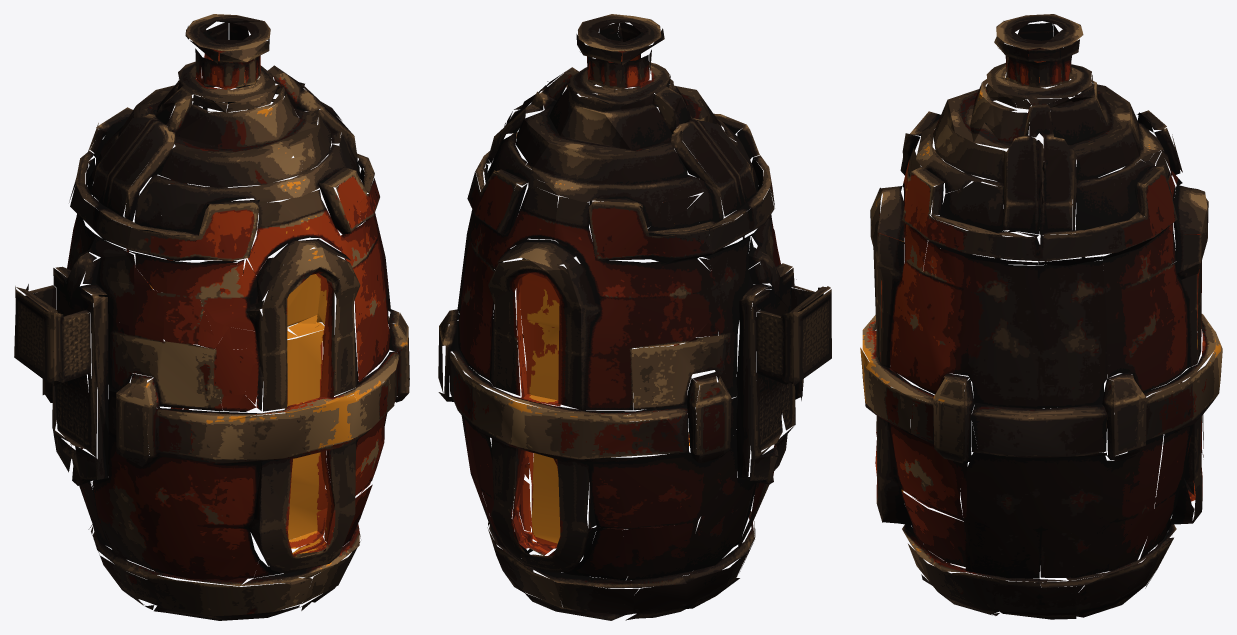
Rendered from co_crucible.glb.
The picture shows the model from 3 angles, left to right: view 1: azimuth 30°, elevation 25°; view 2: azimuth 150°, elevation 25°; view 3: azimuth 270°, elevation 25°; orthographic projection.
Visible parts, largest first — view 1: co_crucible; view 2: co_crucible; view 3: co_crucible.
Boxes of the visible parts, x1,y1,x2,y2 form: co_crucible: (14, 14, 409, 620); co_crucible: (438, 14, 831, 620); co_crucible: (860, 14, 1222, 619).
Bounding box in the file's own units: 0.0869 × 0.13 × 0.0783.
1 material, 1 textured.
